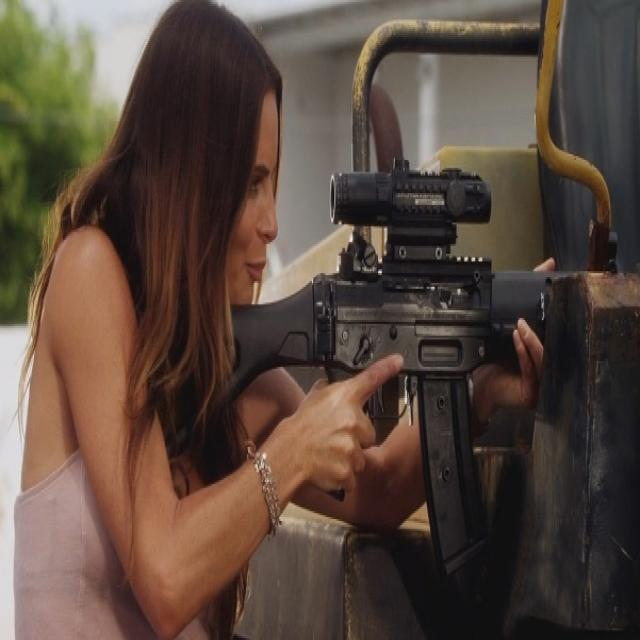rifle: (202, 159, 554, 586)
